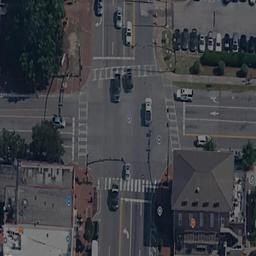Car: (172, 26, 256, 54), (109, 183, 121, 211), (174, 88, 194, 102), (113, 73, 121, 103), (49, 115, 66, 129), (124, 21, 133, 47), (114, 5, 123, 30), (124, 67, 133, 91), (196, 134, 210, 149), (145, 96, 152, 124), (123, 161, 130, 180), (96, 1, 102, 17)
Crosswalk: (85, 63, 163, 82), (165, 94, 183, 160), (94, 175, 163, 192), (78, 90, 89, 171)
Double Solid Yellow Line: (185, 132, 256, 141), (1, 113, 73, 120), (133, 2, 136, 57), (118, 200, 120, 255)
Left Turn Arrow: (121, 225, 130, 240)
Right Turn Arrow: (207, 94, 219, 103), (94, 19, 101, 30)
Solid White Line: (183, 117, 256, 124), (1, 129, 72, 135), (182, 103, 256, 106), (129, 201, 132, 256), (61, 145, 72, 148)
Stop Line: (179, 92, 185, 136), (89, 56, 135, 60), (72, 118, 76, 163), (119, 198, 151, 203)
Stright Arrow: (207, 111, 223, 117)
